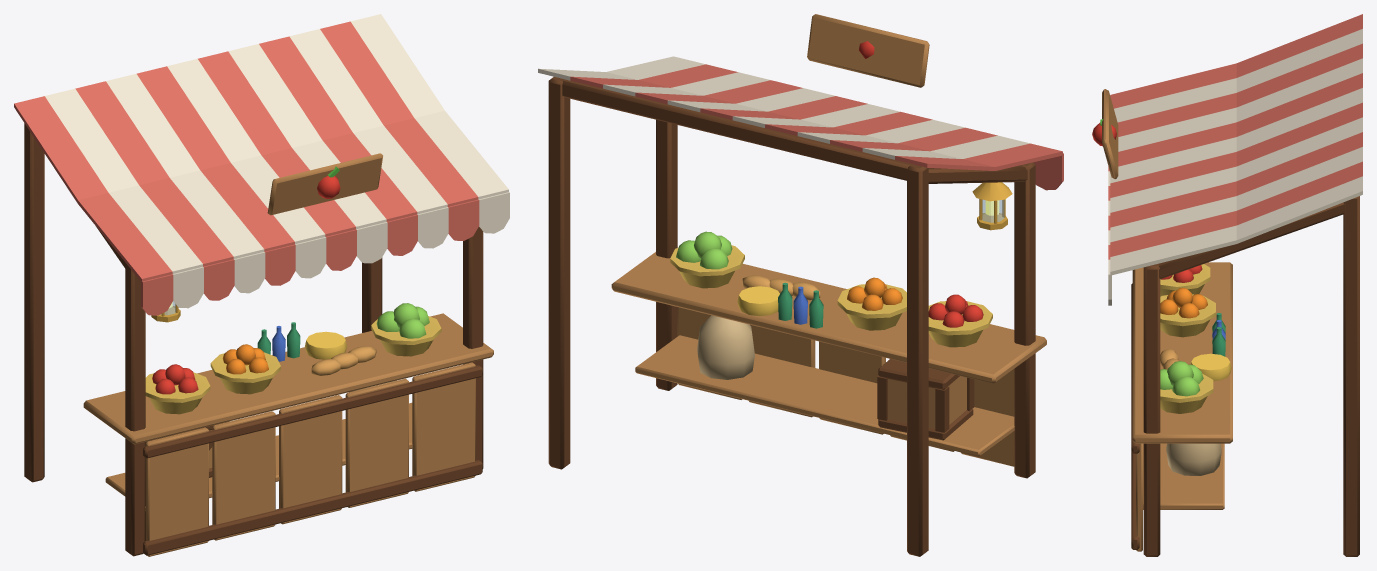
Rendered from prop_market_stall.glb.
3 views of the same model, side by side, from view 1: azimuth 30°, elevation 25°; view 2: azimuth 150°, elevation 25°; view 3: azimuth 270°, elevation 25° (orthographic). The views are drawn at different scales.
Parts seen in each view (by area): view 1: MarketStall; view 2: MarketStall; view 3: MarketStall.
Boxes of the visible parts, x1,y1,x2,y2 form: MarketStall: [14, 14, 509, 556]; MarketStall: [538, 14, 1063, 556]; MarketStall: [1092, 14, 1362, 556].
Size of what is drawn, in the model's own units: 3 by 2.93 by 1.94.
